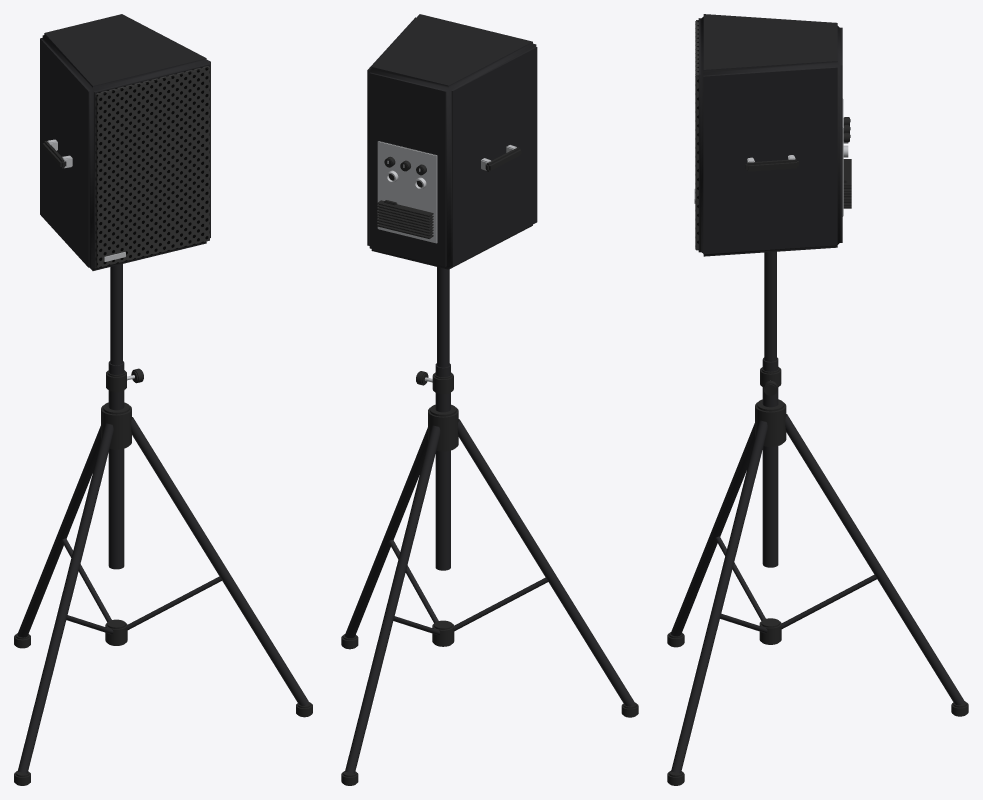
Rendered from speaker_stand.glb.
3 views of the same model, side by side, from view 1: azimuth 30°, elevation 25°; view 2: azimuth 150°, elevation 25°; view 3: azimuth 270°, elevation 25° (orthographic).
Visible parts, largest first — view 1: speaker_stand; view 2: speaker_stand; view 3: speaker_stand.
Boxes of the visible parts, x1,y1,x2,y2 form: speaker_stand: (14,14,312,785); speaker_stand: (341,14,638,785); speaker_stand: (667,14,968,785).
Bounding box in the file's own units: 0.8387 × 1.8 × 0.732.
Materials: 7 (1 with a texture image).
